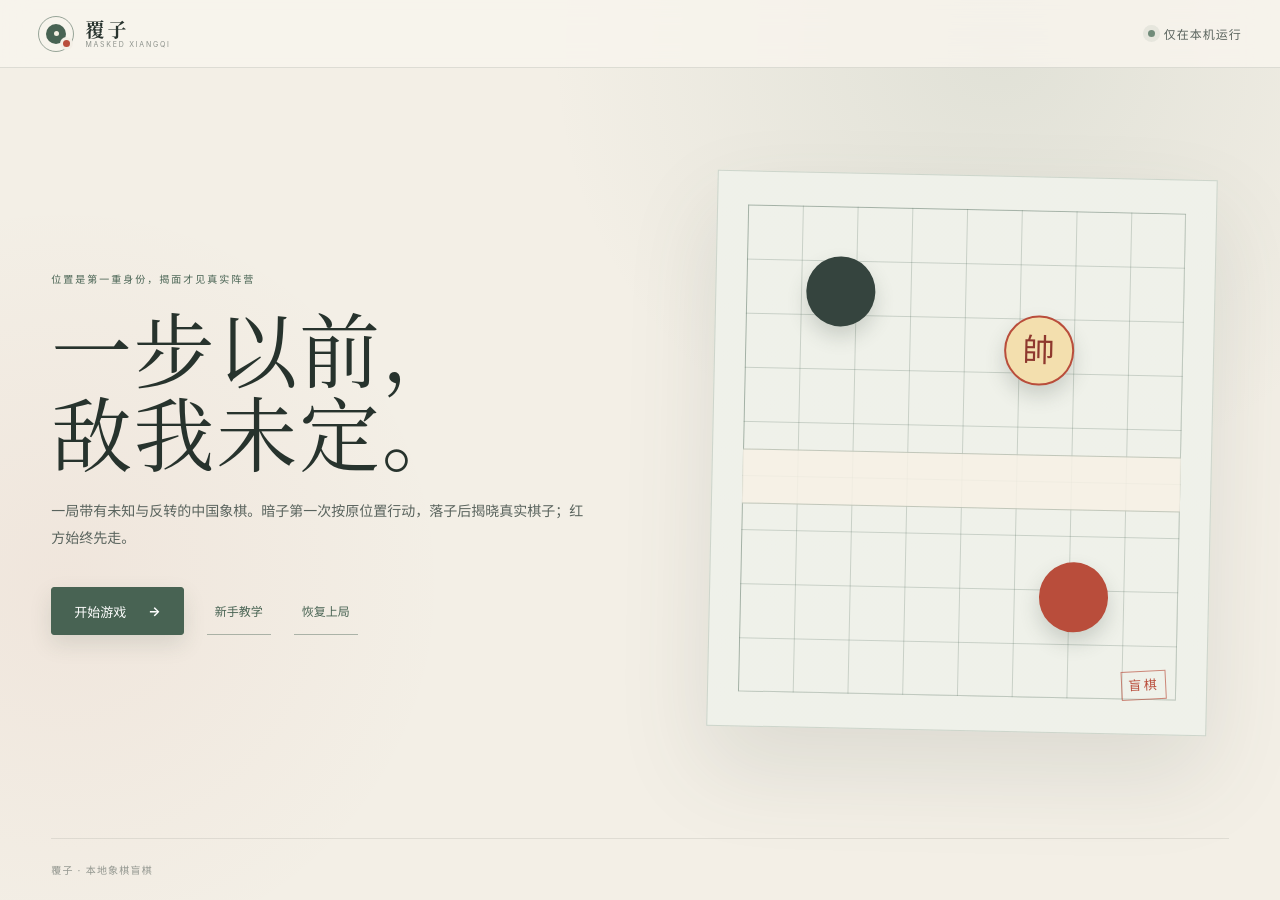
局域网对战界面 › 旧座位墓碑写入失败时中止换局并保留恢复凭据
What coordinates should you click on to do the following:
click the button "开始游戏 →"
I would click on:
 (117, 611)
Its box is x1=51 y1=587 x2=184 y2=635.
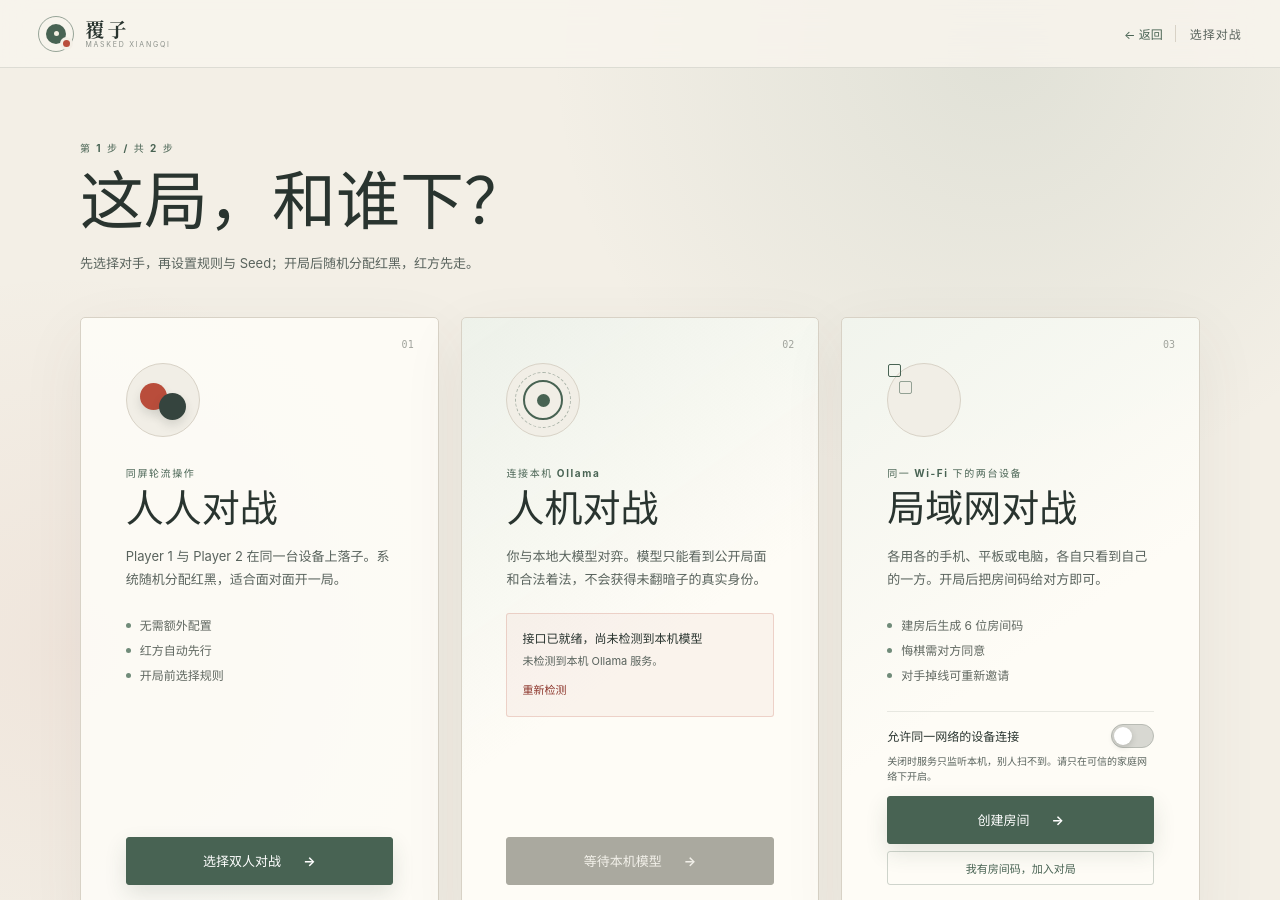
Now the heading "这局，和谁下？" is shown, box x1=80 y1=167 x2=528 y2=238
What coordinates should you click on to do the following:
click the button "创建房间 →"
I would click on:
 (1021, 820)
Its box is x1=887 y1=796 x2=1154 y2=844.
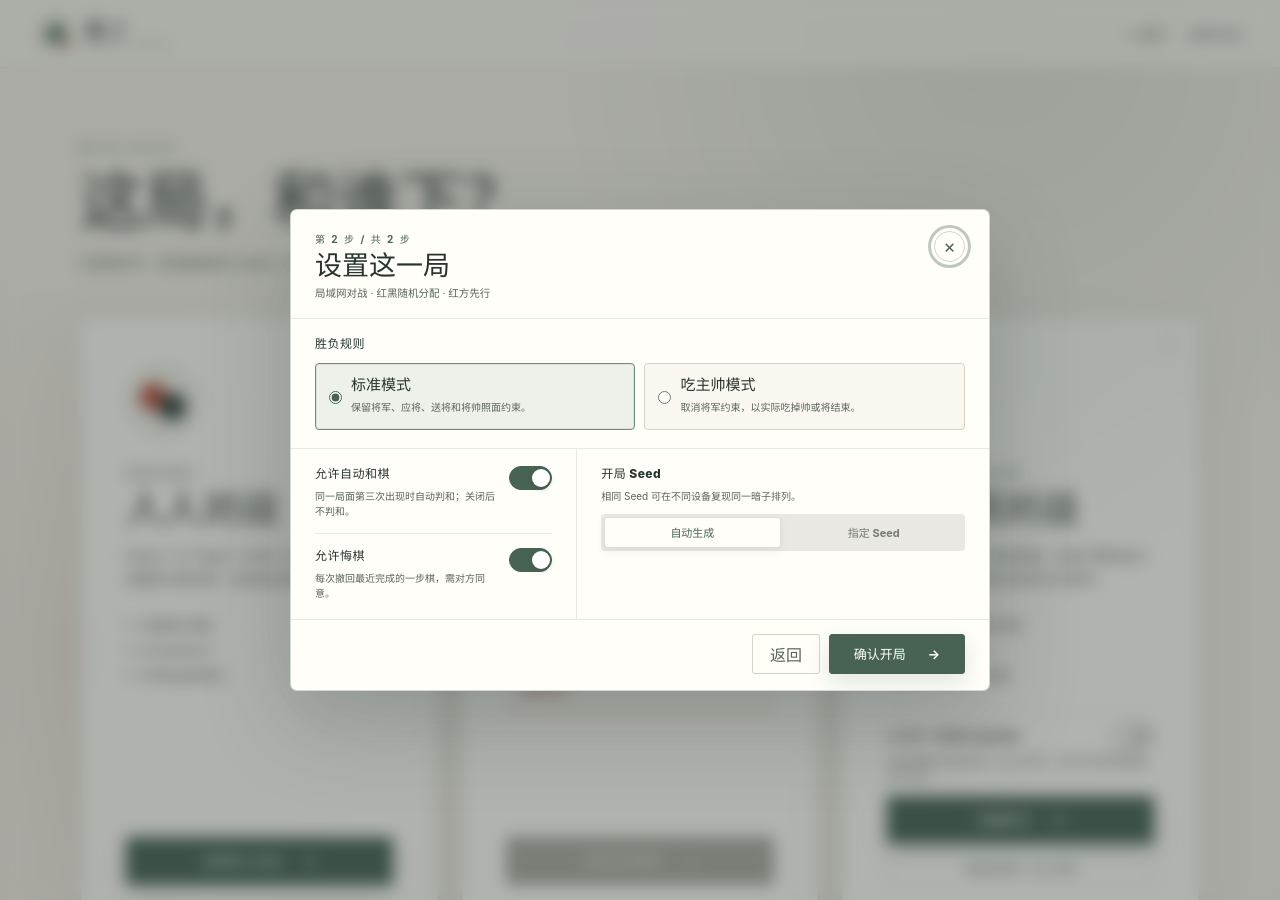
What coordinates should you click on to do the following:
click the button "确认开局 →"
I would click on:
 (897, 654)
Its box is x1=829 y1=634 x2=965 y2=674.
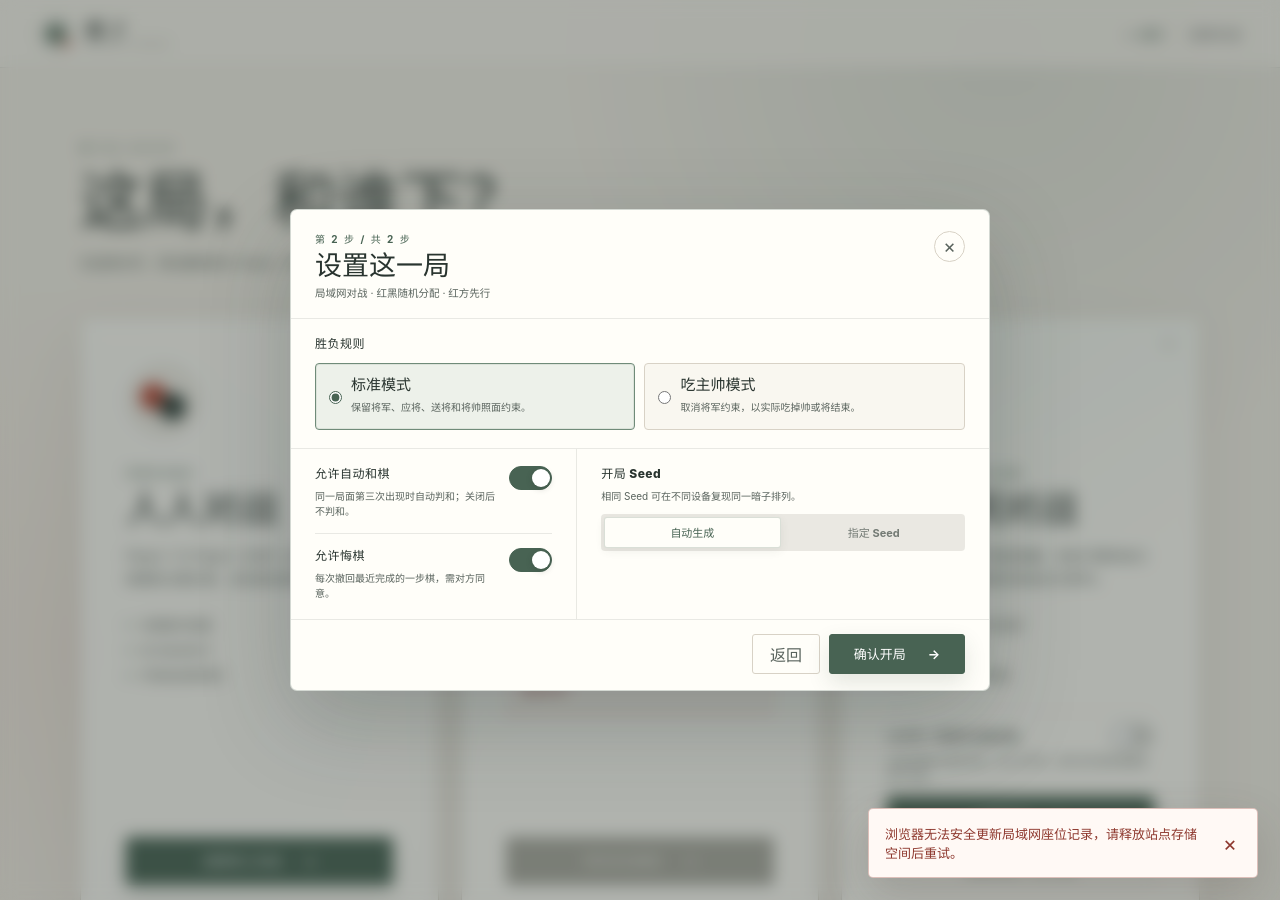
Now the text "浏览器无法安全更新局域网座位记录，请释放站点存储空间后重试。" is shown, box x1=885 y1=824 x2=1199 y2=862
